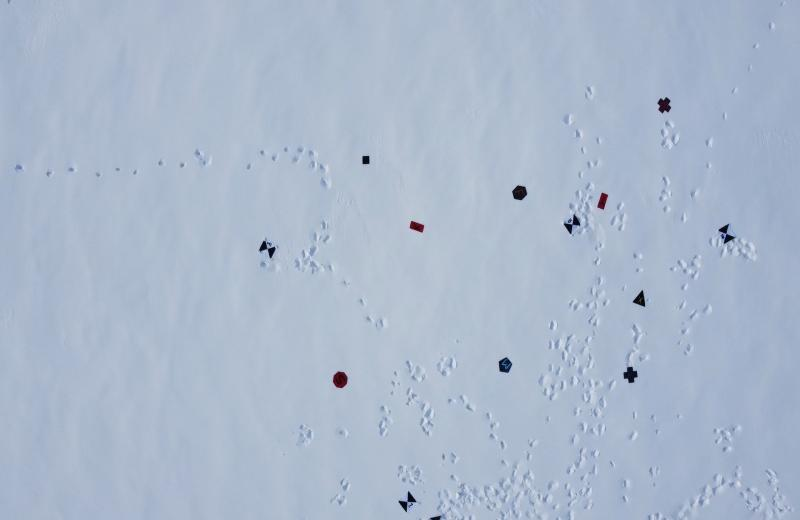Cross: (623, 365, 638, 384), (657, 96, 672, 114)
Hexagon: (512, 183, 528, 202)
Octagon: (332, 370, 349, 390)
Pentagon: (497, 356, 513, 375)
Rectangle: (596, 191, 610, 211), (410, 219, 426, 235)
Square: (361, 154, 370, 166)
Triangle: (632, 288, 648, 308)
